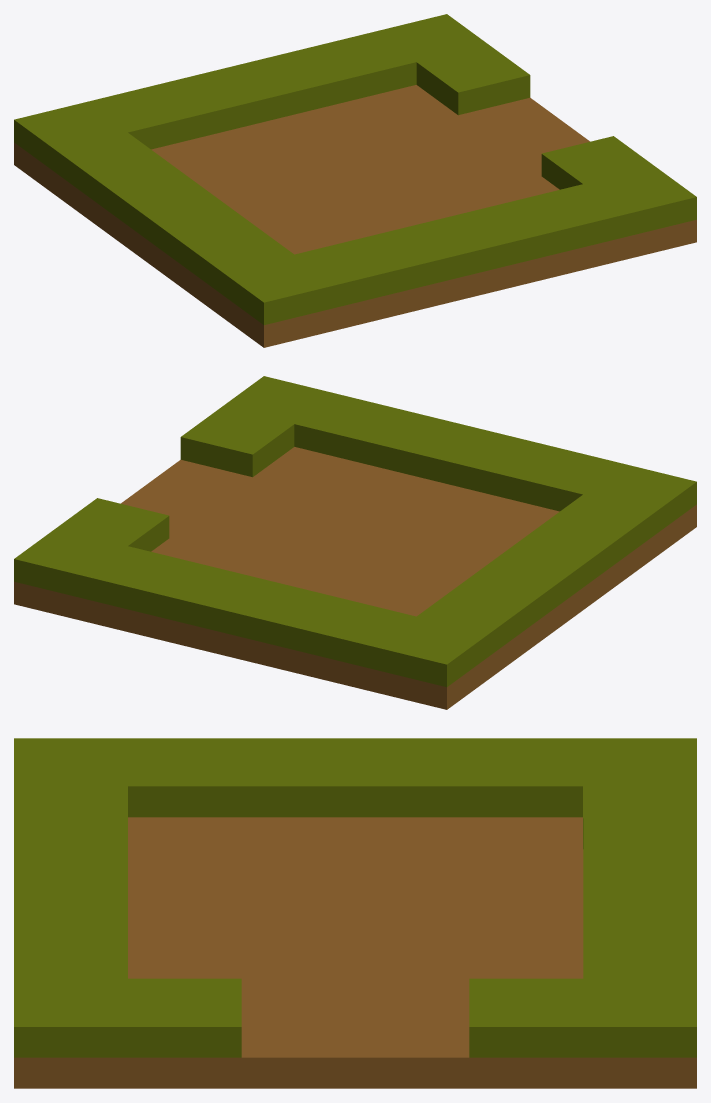
File: ForestStart.fbx
3 views of the same model, one above another, from view 1: azimuth 30°, elevation 25°; view 2: azimuth 150°, elevation 25°; view 3: azimuth 270°, elevation 25° (orthographic). The views are drawn at different scales.
Parts seen in each view (by area): view 1: ForestStart; view 2: ForestStart; view 3: ForestStart.
Part boxes in pixels (bbox=[...]): ForestStart: bbox=[14, 14, 696, 347]; ForestStart: bbox=[14, 376, 696, 709]; ForestStart: bbox=[14, 738, 696, 1088].
Size of the model in its own units: 100 by 10 by 100.
